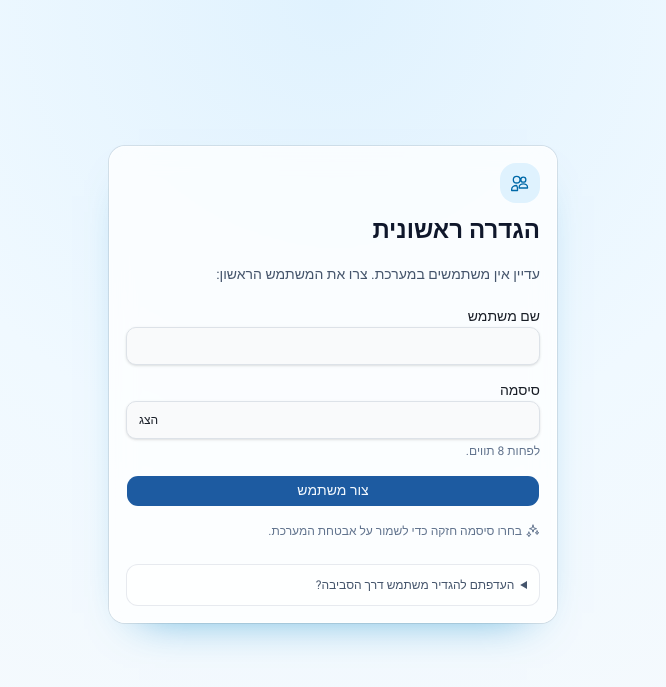
Test: Setup page › shows error and stays put when backend rejects setup
The image size is (666, 687).
In the field labelled "שם משתמש": {"x": 333, "y": 346} 126,326 -> 540,364, type "admin"
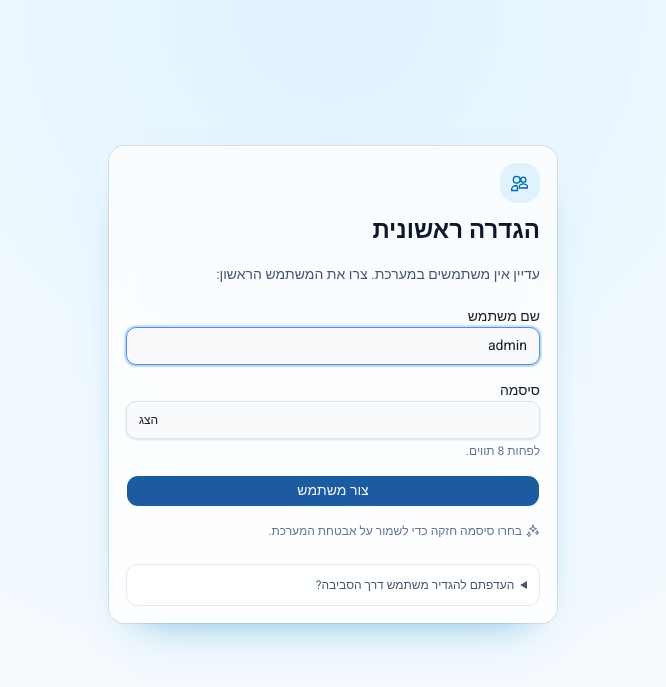
In the password field labelled "סיסמה": {"x": 333, "y": 420} 126,400 -> 540,438, type "super-secret-1"
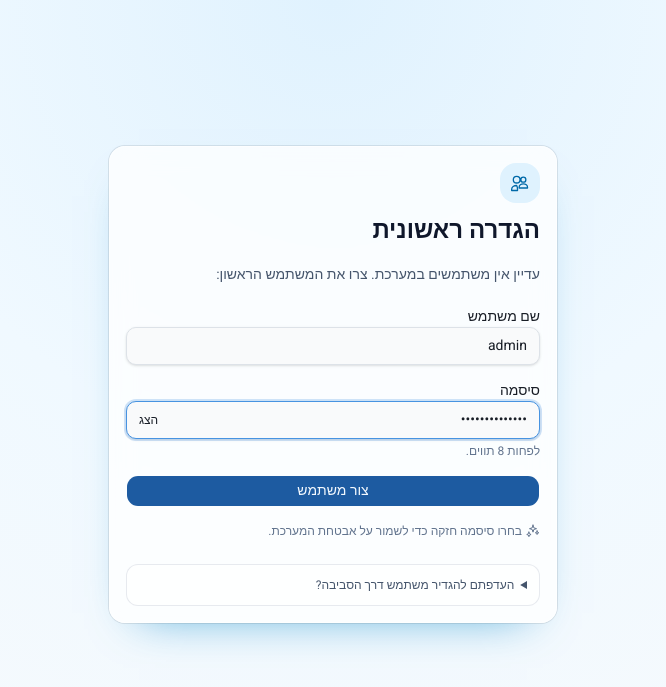
Click the button "צור משתמש": {"x": 333, "y": 490} 126,474 -> 540,506
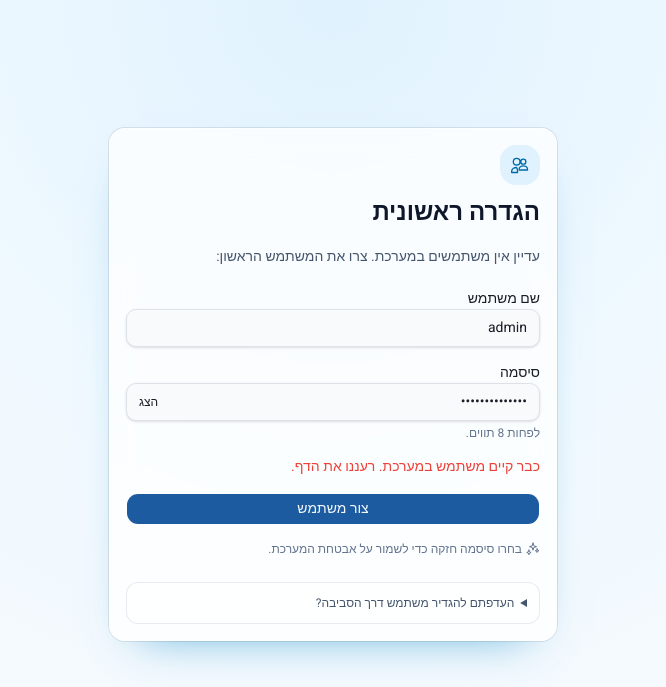
Now the message "כבר קיים משתמש במערכת. רעננו את הדף." is shown, box 291,456 -> 540,476
